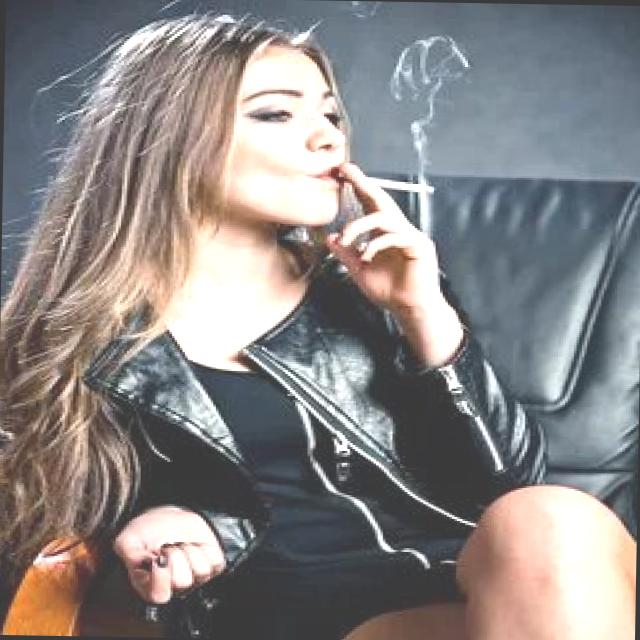cigarette: (348, 164, 439, 197)
